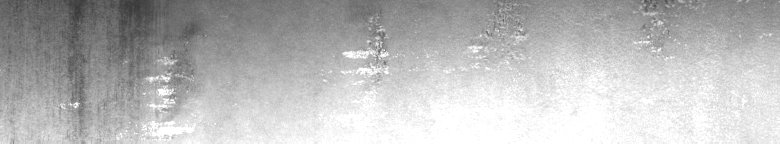hc: (45, 4, 204, 136)
